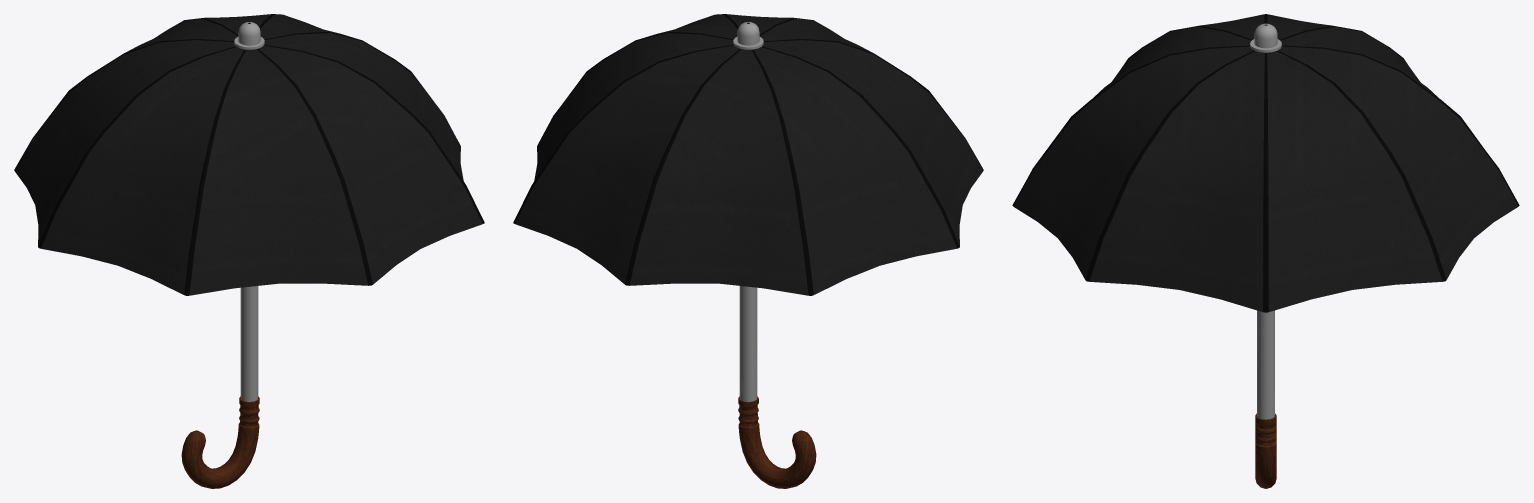
File: umbrella.glb
The picture shows the model from 3 angles, left to right: view 1: azimuth 30°, elevation 25°; view 2: azimuth 150°, elevation 25°; view 3: azimuth 270°, elevation 25°; orthographic projection. The views are drawn at different scales.
Parts seen in each view (by area): view 1: Circle.001; view 2: Circle.001; view 3: Circle.001.
Boxes of the visible parts, x1,y1,x2,y2 form: Circle.001: (14, 14, 484, 488); Circle.001: (513, 14, 983, 488); Circle.001: (1012, 14, 1519, 488).
Bounding box in the file's own units: 2.25 × 2.33 × 2.25.
1 material, 1 textured.
